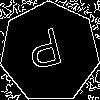P: (24, 27, 67, 79)
